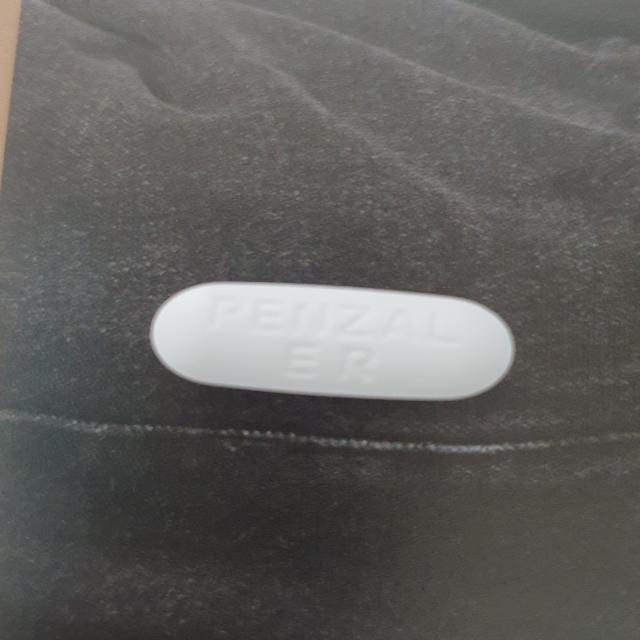pill: (132, 265, 520, 418)
